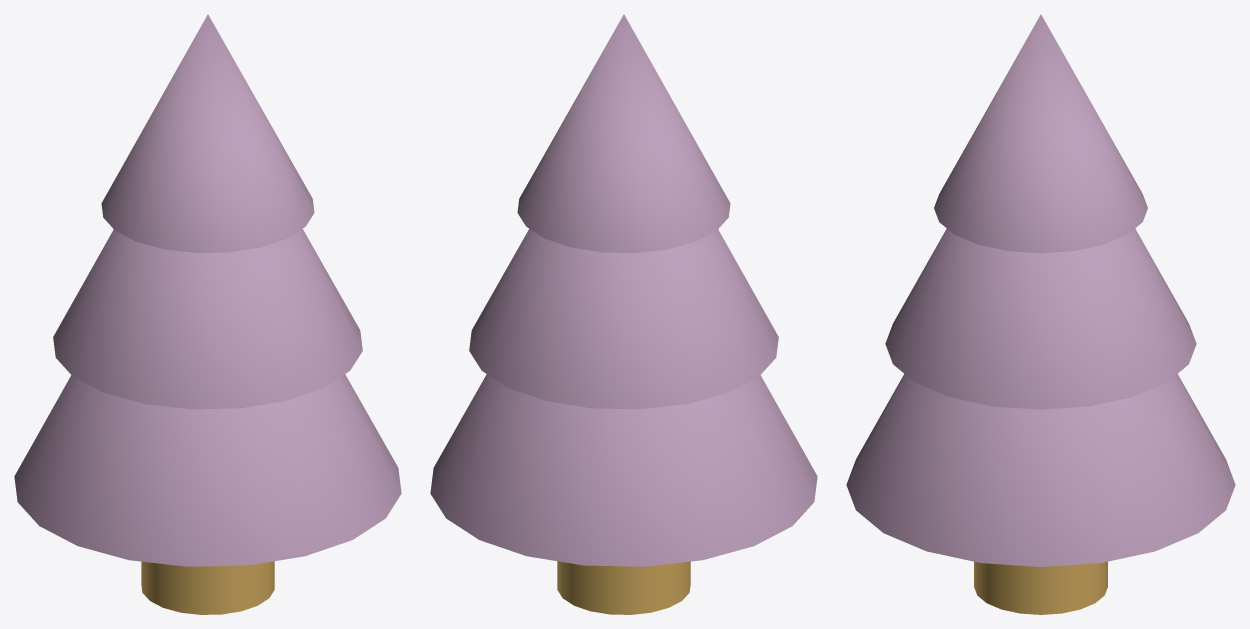
File: pinheiro_roxo.fbx
3 views of the same model, side by side, from view 1: azimuth 30°, elevation 25°; view 2: azimuth 150°, elevation 25°; view 3: azimuth 270°, elevation 25° (orthographic).
Visible parts, largest first — view 1: arvore3_9, arvore3_8, arvore3_7, arvore22; view 2: arvore3_9, arvore3_8, arvore3_7, arvore22; view 3: arvore3_9, arvore3_8, arvore3_7, arvore22.
Part boxes in pixels (x1=…): arvore3_9: x1=14, y1=374, x2=401, y2=566; arvore3_8: x1=53, y1=229, x2=362, y2=409; arvore3_7: x1=101, y1=14, x2=314, y2=252; arvore22: x1=141, y1=561, x2=274, y2=614; arvore3_9: x1=430, y1=374, x2=817, y2=566; arvore3_8: x1=469, y1=229, x2=778, y2=409; arvore3_7: x1=517, y1=14, x2=730, y2=252; arvore22: x1=557, y1=561, x2=690, y2=614; arvore3_9: x1=846, y1=374, x2=1235, y2=566; arvore3_8: x1=885, y1=228, x2=1196, y2=409; arvore3_7: x1=934, y1=14, x2=1147, y2=253; arvore22: x1=974, y1=561, x2=1107, y2=614.
Bounding box in the file's own units: 1.96 × 3.18 × 1.96.
